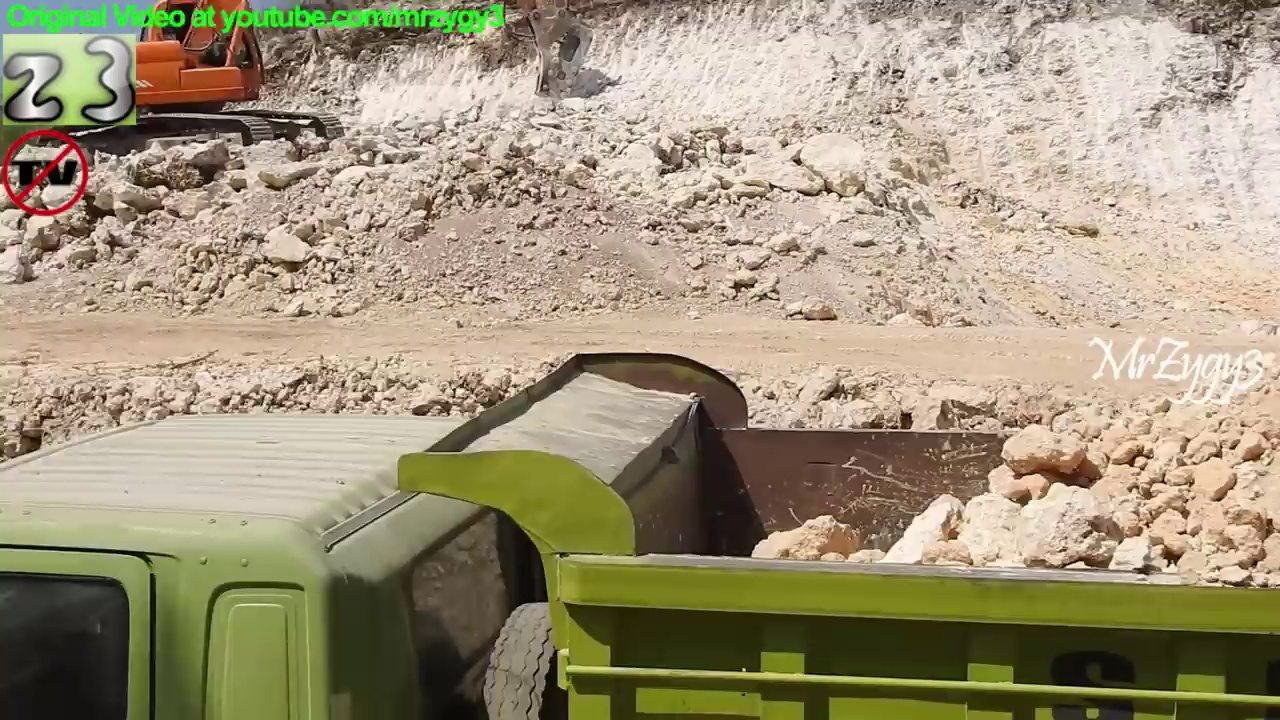excavator: (28, 1, 595, 192)
truck: (1, 347, 1280, 720)
